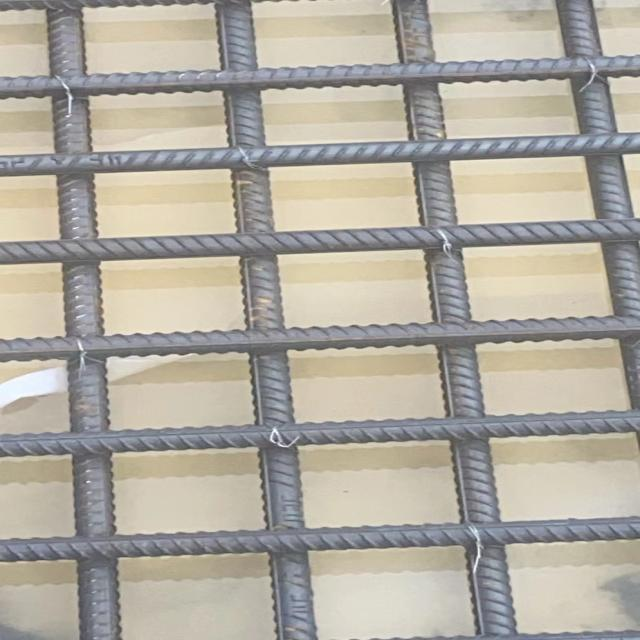ribbed bar: (385, 0, 518, 639), (215, 0, 316, 639), (44, 7, 120, 639), (555, 0, 639, 409), (0, 409, 639, 459), (0, 217, 639, 266), (0, 514, 639, 563), (0, 315, 639, 363), (0, 131, 639, 178), (0, 54, 639, 99)
